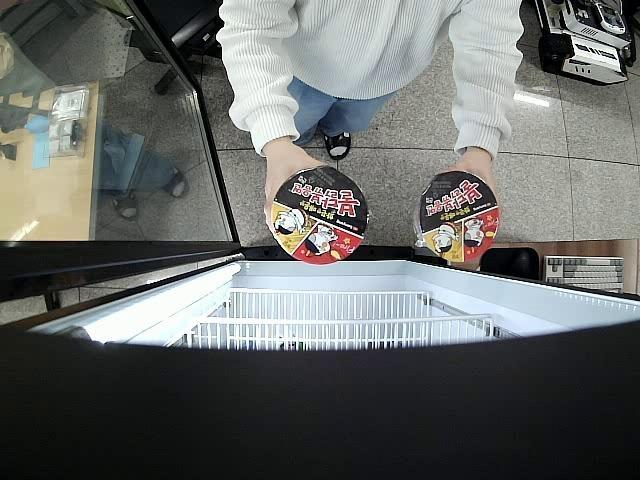07_buldak_L: (272, 169, 368, 266), (416, 172, 498, 262)
